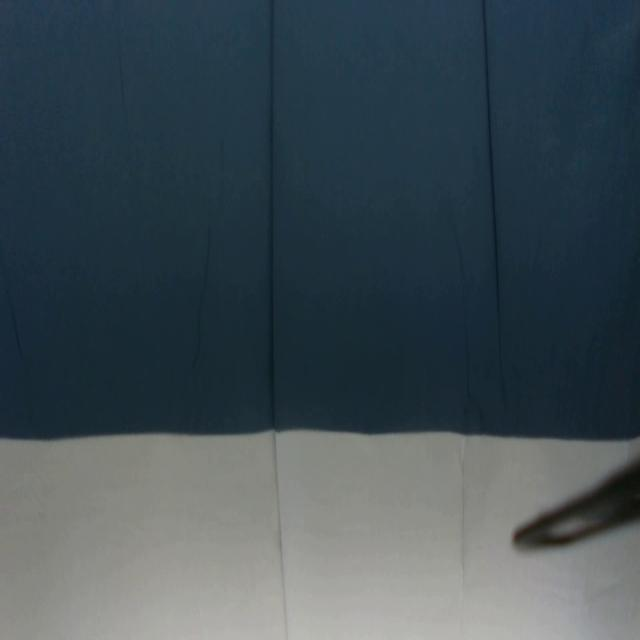crease: (265, 1, 290, 640), (479, 3, 509, 415), (456, 444, 471, 588)
